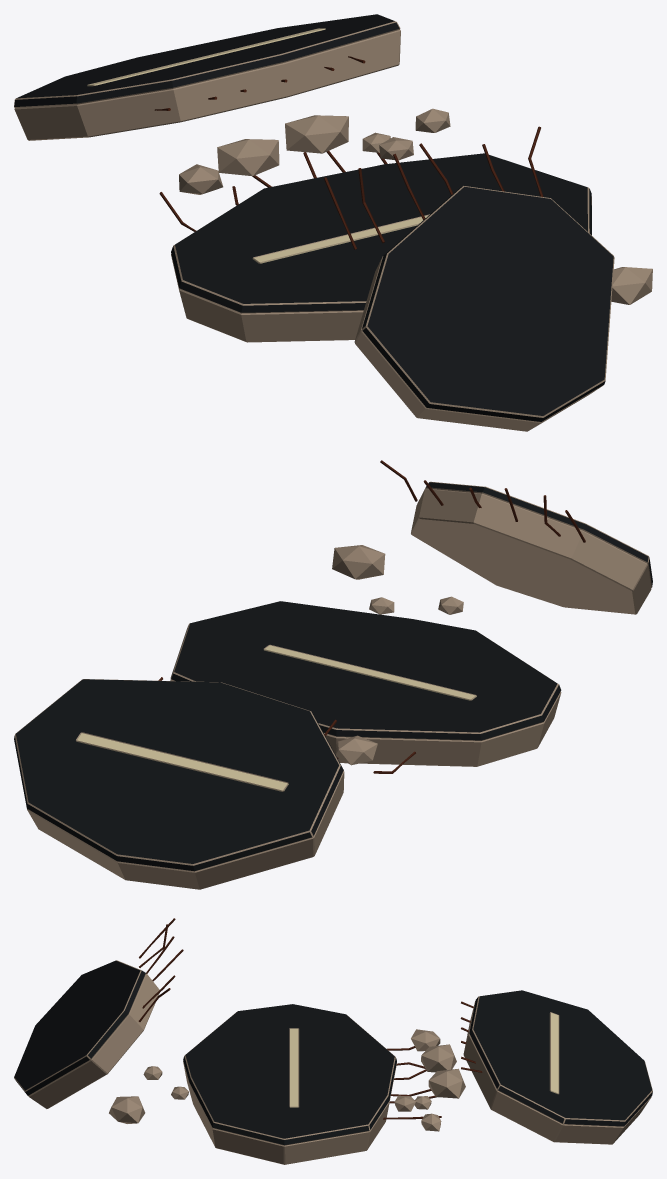
The model's file is DISASTER_13_BrokenRoadSlab.obj.
3 views of the same model, one above another, from view 1: azimuth 30°, elevation 25°; view 2: azimuth 150°, elevation 25°; view 3: azimuth 270°, elevation 25° (orthographic). The views are drawn at different scales.
Visible parts, largest first — view 1: DISASTER_13_BrokenRoadSlab_Slab_C, DISASTER_13_BrokenRoadSlab_Slab_A, DISASTER_13_BrokenRoadSlab_Slab_B, DISASTER_13_BrokenRoadSlab_Rubble_Chunks, DISASTER_13_BrokenRoadSlab_Rebar; view 2: DISASTER_13_BrokenRoadSlab_Slab_B, DISASTER_13_BrokenRoadSlab_Slab_A, DISASTER_13_BrokenRoadSlab_Slab_C, DISASTER_13_BrokenRoadSlab_Rubble_Chunks, DISASTER_13_BrokenRoadSlab_Rebar; view 3: DISASTER_13_BrokenRoadSlab_Slab_A, DISASTER_13_BrokenRoadSlab_Slab_B, DISASTER_13_BrokenRoadSlab_Slab_C, DISASTER_13_BrokenRoadSlab_Rubble_Chunks, DISASTER_13_BrokenRoadSlab_Rebar.
Boxes of the visible parts, x1,y1,x2,y2 form: DISASTER_13_BrokenRoadSlab_Slab_C: (354,186,614,431); DISASTER_13_BrokenRoadSlab_Slab_A: (171,153,591,342); DISASTER_13_BrokenRoadSlab_Slab_B: (14,14,400,140); DISASTER_13_BrokenRoadSlab_Rubble_Chunks: (179,108,652,304); DISASTER_13_BrokenRoadSlab_Rebar: (154,56,543,249); DISASTER_13_BrokenRoadSlab_Slab_B: (14,679,344,889); DISASTER_13_BrokenRoadSlab_Slab_A: (170,601,561,766); DISASTER_13_BrokenRoadSlab_Slab_C: (411,481,652,614); DISASTER_13_BrokenRoadSlab_Rubble_Chunks: (332,545,463,765); DISASTER_13_BrokenRoadSlab_Rebar: (158,460,585,773); DISASTER_13_BrokenRoadSlab_Slab_A: (183,1004,396,1164); DISASTER_13_BrokenRoadSlab_Slab_B: (463,990,652,1144); DISASTER_13_BrokenRoadSlab_Slab_C: (14,960,159,1108); DISASTER_13_BrokenRoadSlab_Rubble_Chunks: (109,1029,465,1131); DISASTER_13_BrokenRoadSlab_Rebar: (138,918,482,1119).
Bounding box in the file's own units: 4.54 × 2.29 × 8.92.
